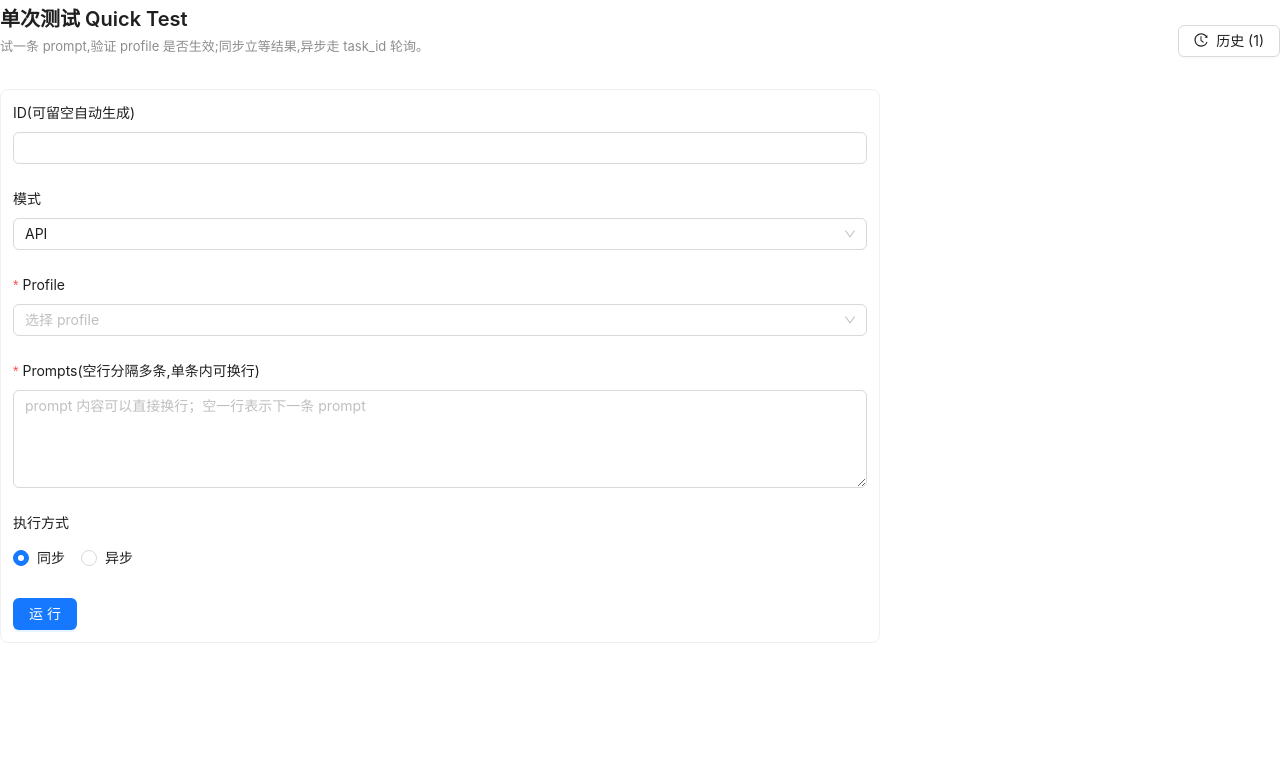
Test: TestsQuick › shows an explicit notice when llm extraction is not enabled
Press the mouse on the dropdown labelled "Profile": (46,285) [13,274,79,296]
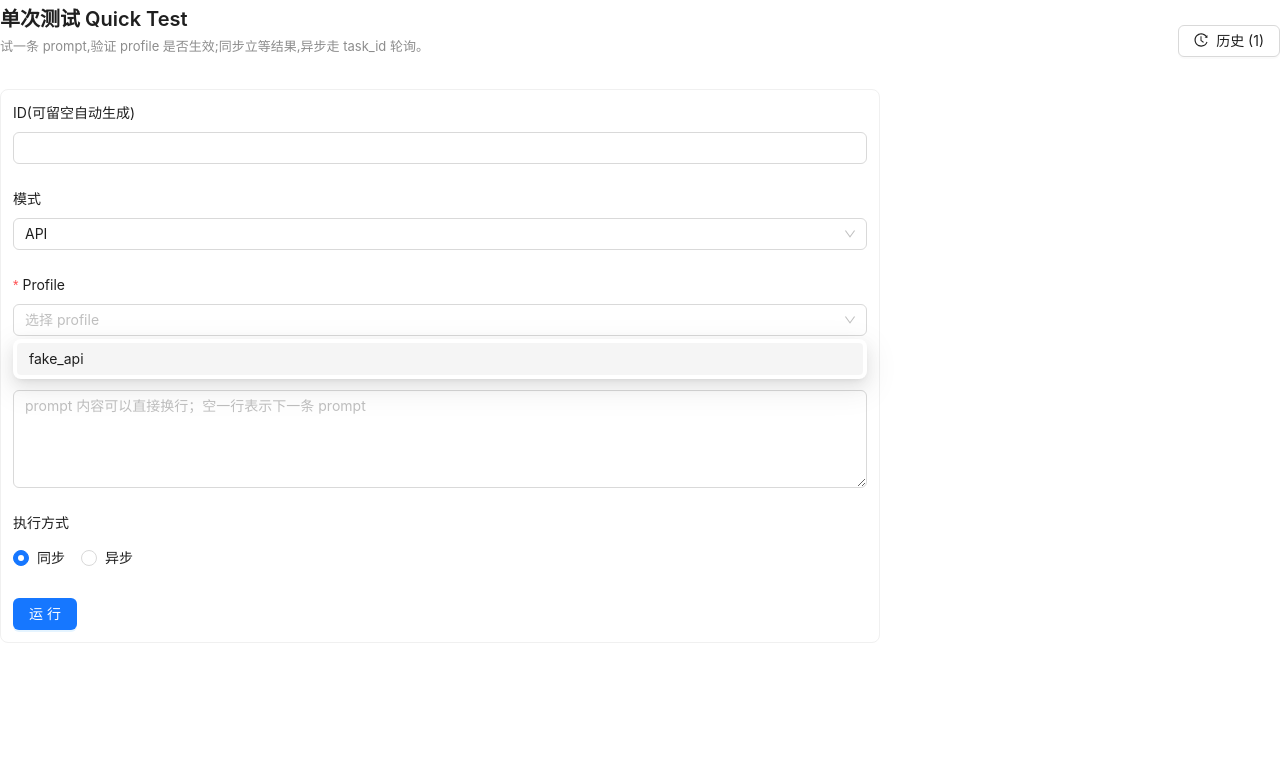
Click the text "fake_api": (56,358) [29,350,84,367]
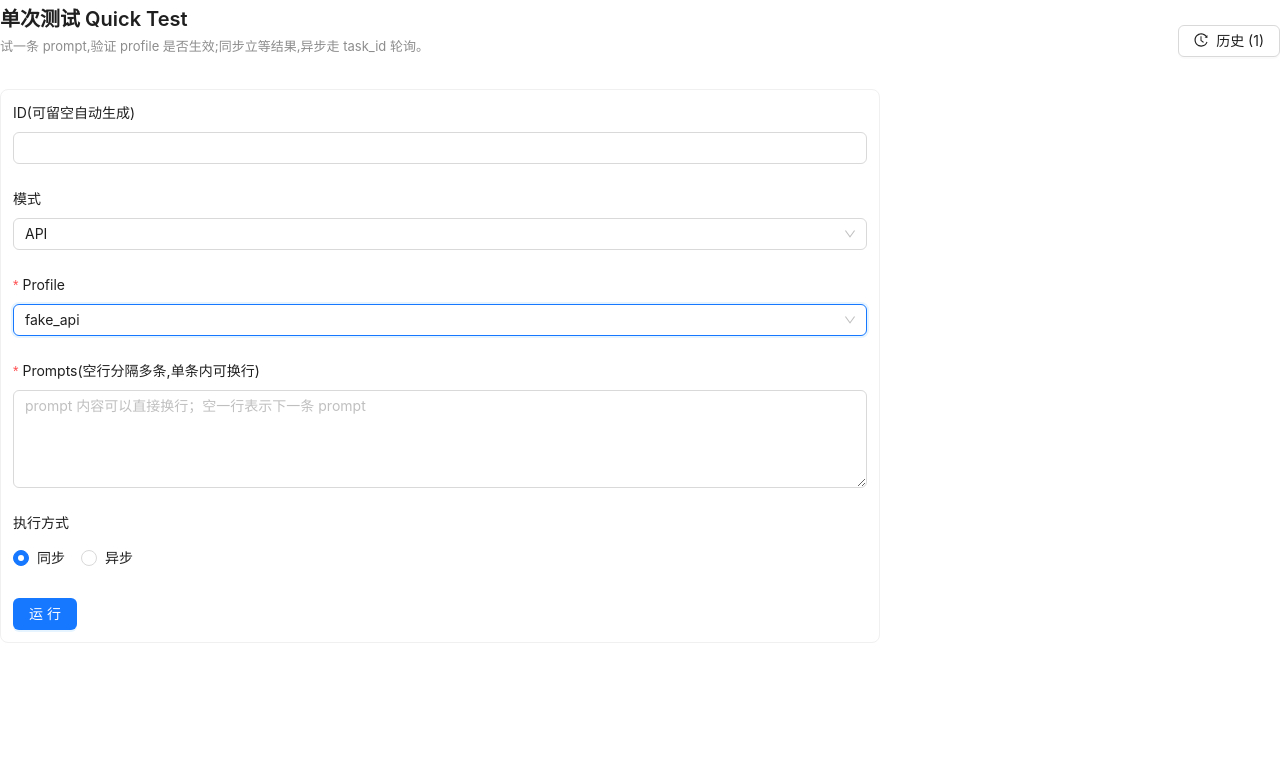
In the text box labelled "Prompts(空行分隔多条,单条内可换行)": (440,439) [13,390,867,488], type "hello"
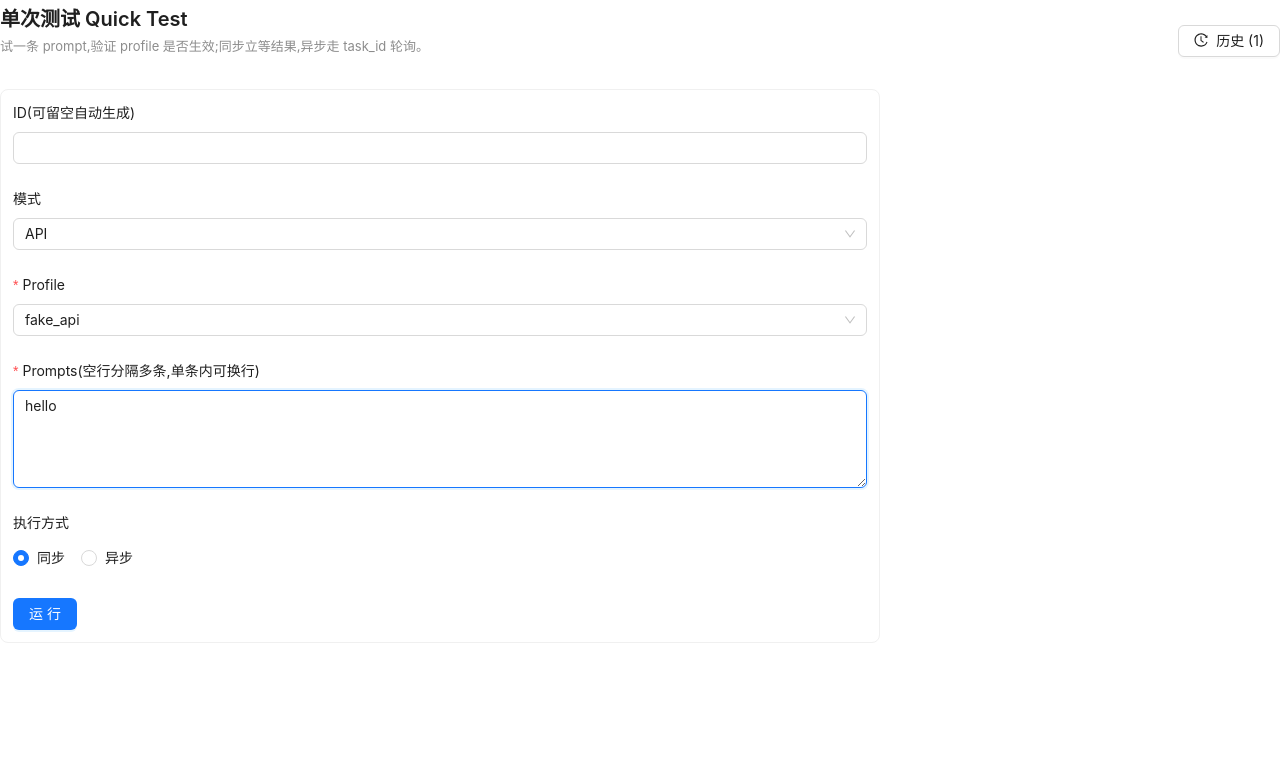
Click the button "运 行": (45,614) [13,598,77,630]
(page scrolled)
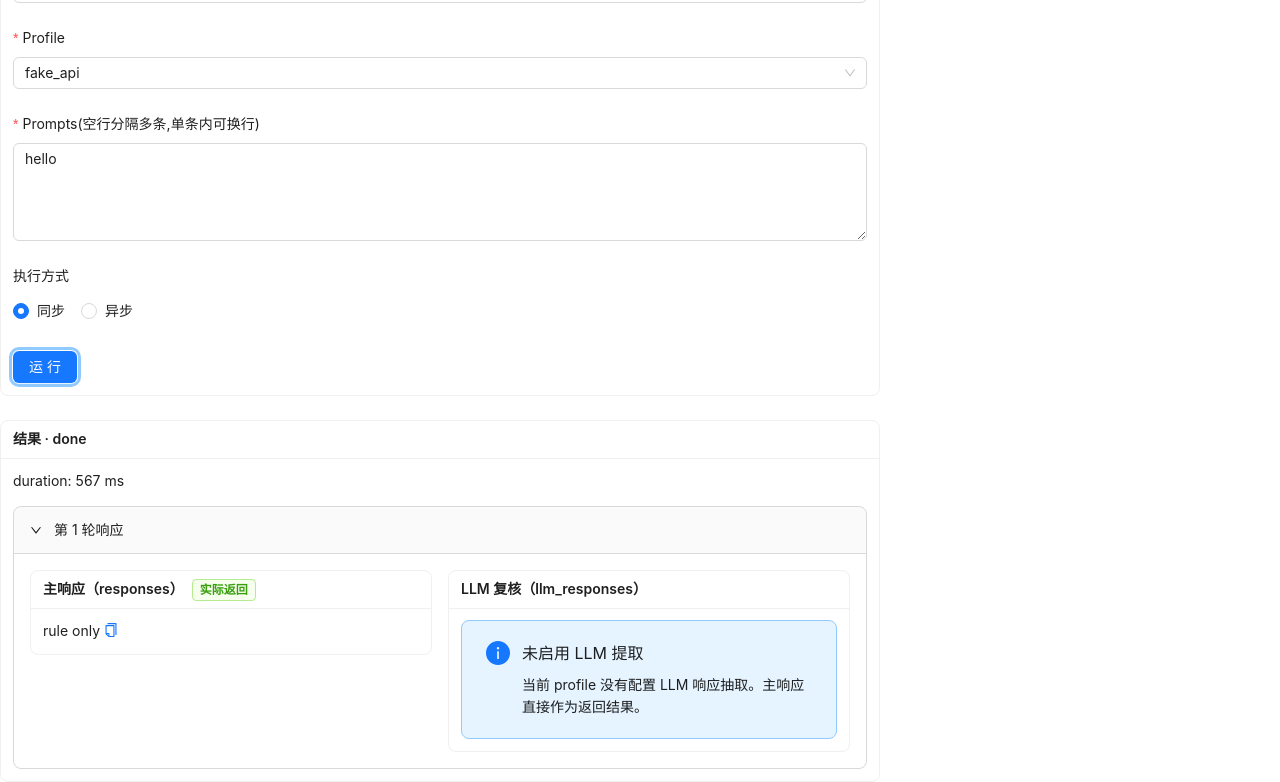
Check: the text "结果 · done" is shown, box [13,430,87,447]
Check: the text "未启用 LLM 提取" is shown, box [522,643,644,663]
